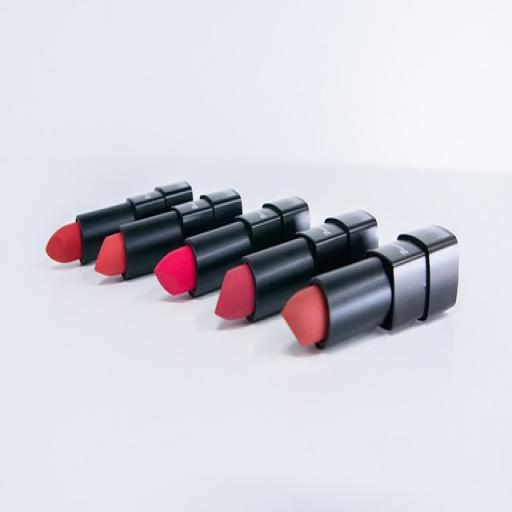lipstick: (282, 227, 458, 348), (216, 211, 378, 321), (156, 197, 309, 297), (96, 190, 242, 278), (46, 183, 192, 264)
